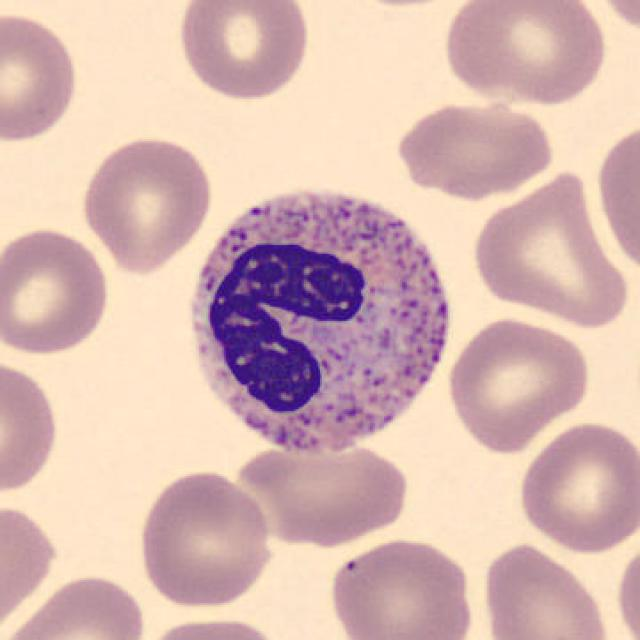Neutrophil: (172, 170, 463, 474)
RBC: (467, 166, 633, 330), (442, 314, 594, 455), (233, 432, 414, 548), (134, 465, 278, 610), (77, 132, 215, 275), (439, 0, 611, 109), (391, 97, 557, 201), (514, 418, 638, 557), (326, 534, 476, 640), (0, 222, 114, 358), (172, 0, 312, 102), (476, 539, 615, 640), (0, 7, 82, 145), (2, 569, 151, 640), (0, 354, 62, 499), (0, 497, 62, 637), (592, 114, 638, 278), (138, 612, 290, 640), (611, 532, 640, 639), (586, 0, 640, 40)
